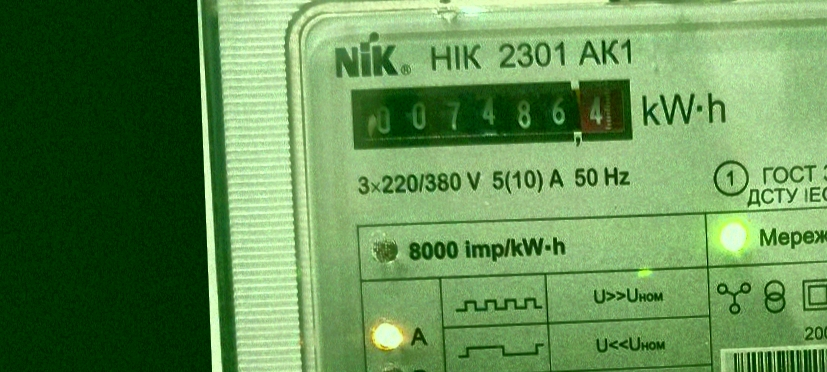0: (371, 101, 392, 135), (408, 97, 427, 131)
4: (477, 91, 496, 127), (585, 92, 603, 127)
6: (548, 94, 568, 126)
7: (440, 97, 464, 131)
8: (514, 96, 532, 132)
screen: (340, 66, 641, 162)
